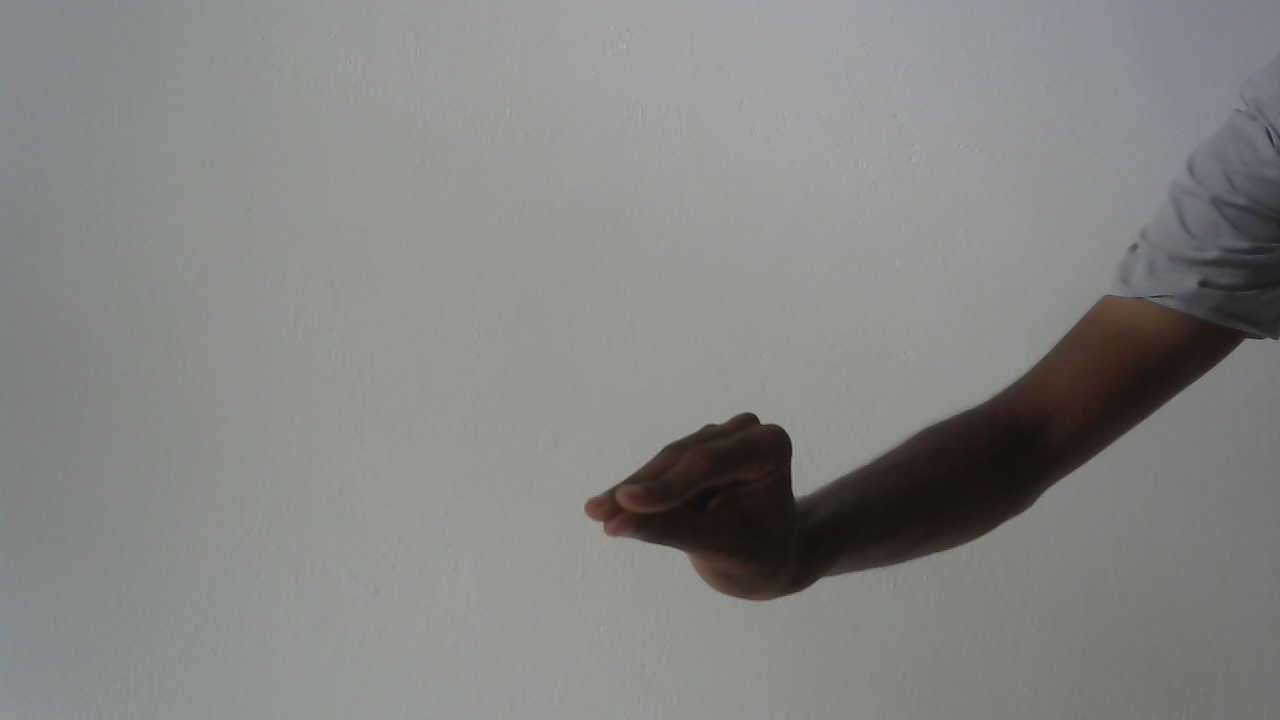no: (573, 398, 836, 624)
